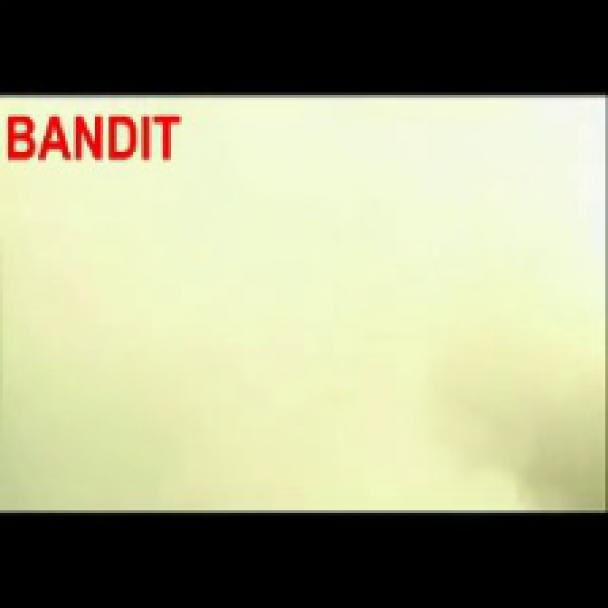smoke: (4, 94, 602, 513)
